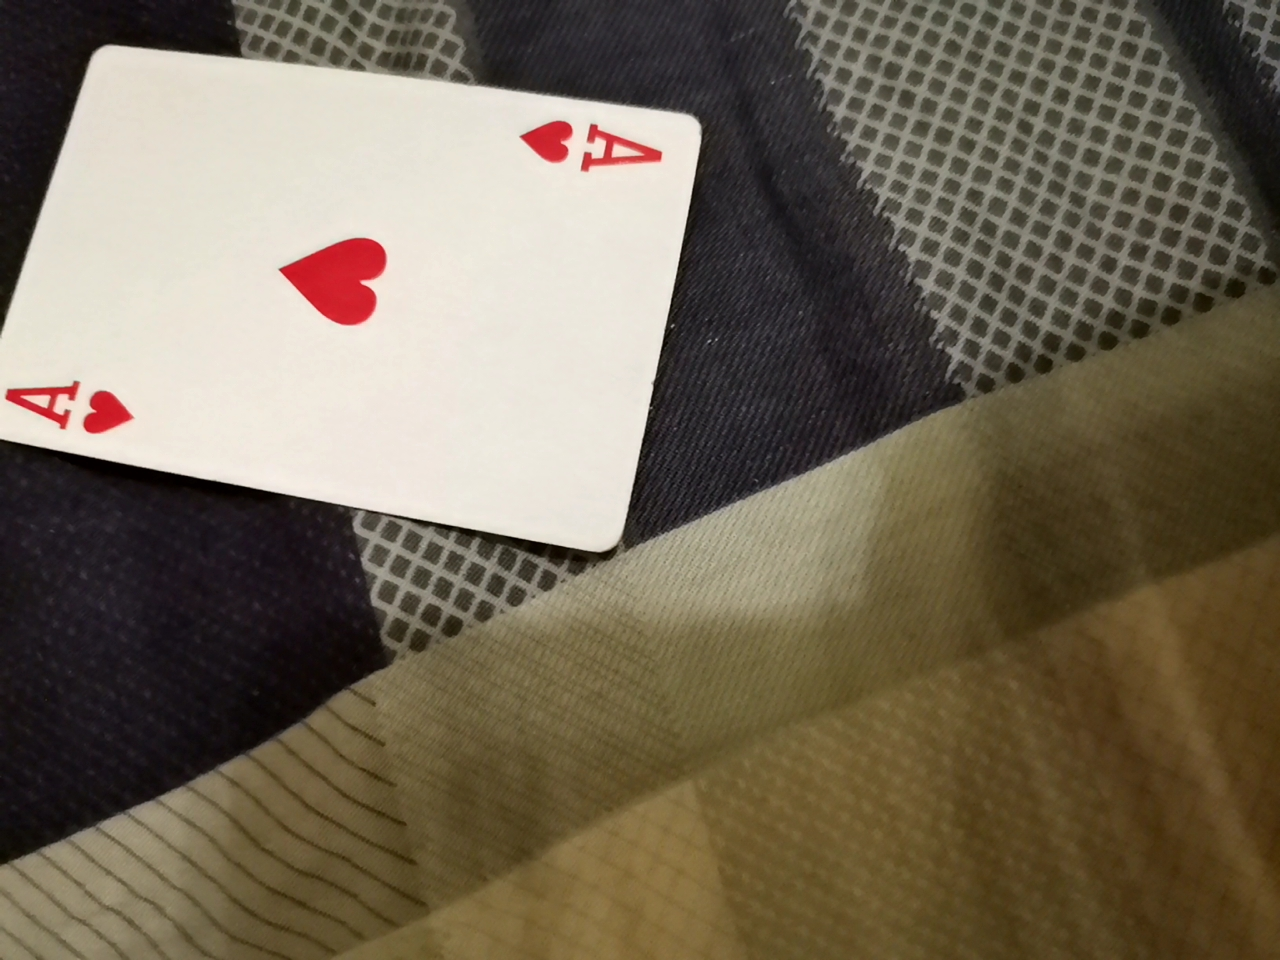hx a: (8, 34, 715, 544)
